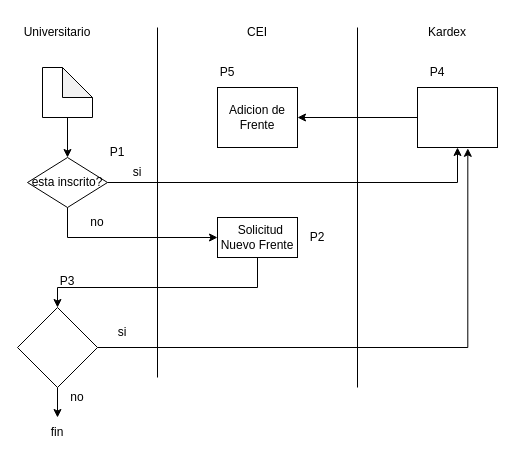
Some shapes in this 515 by 464 pixel diagram are drawn without their labels. The shapes that lost their labels are listed below. From the top down, each one's centre as x and y in pixels, then its label:
At (x=457, y=117): "Validacion Frente".
At (x=57, y=347): "la respuesta es valida".
